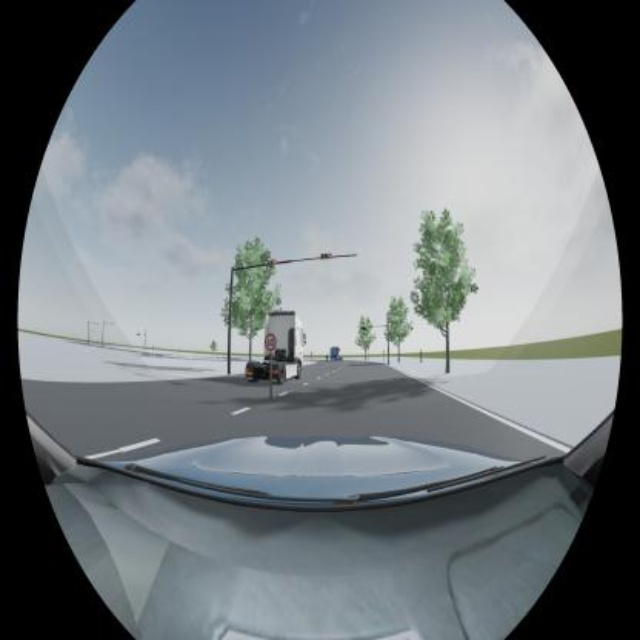Tốc độ tối đa cho phép 80km/h: (264, 333, 276, 350)
Đèn xanh: (360, 327, 369, 332)
Đèn đỏ: (321, 253, 333, 260)
